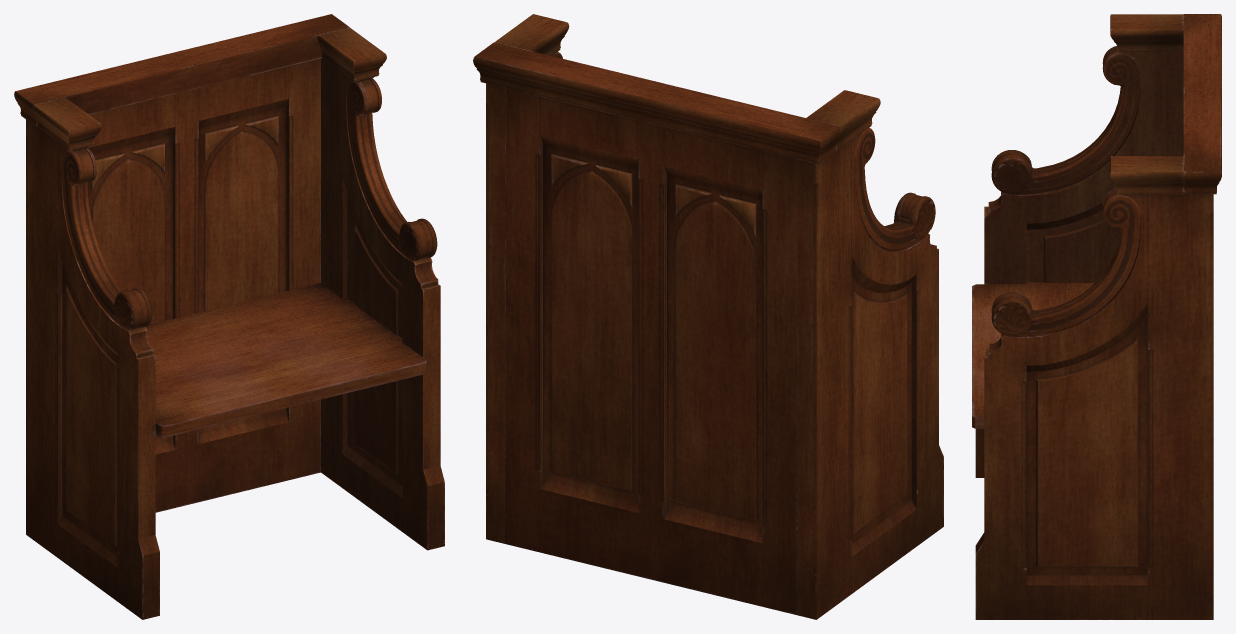
The picture shows the model from 3 angles, left to right: view 1: azimuth 30°, elevation 25°; view 2: azimuth 150°, elevation 25°; view 3: azimuth 270°, elevation 25°; orthographic projection. The views are drawn at different scales.
Parts seen in each view (by area): view 1: SM_bench; view 2: SM_bench; view 3: SM_bench.
Boxes of the visible parts, x1,y1,x2,y2 form: SM_bench: [14, 14, 444, 619]; SM_bench: [473, 14, 943, 619]; SM_bench: [972, 14, 1221, 619].
Bounding box in the file's own units: 0.7376 × 0.979 × 0.4908.
1 material, 1 textured.
